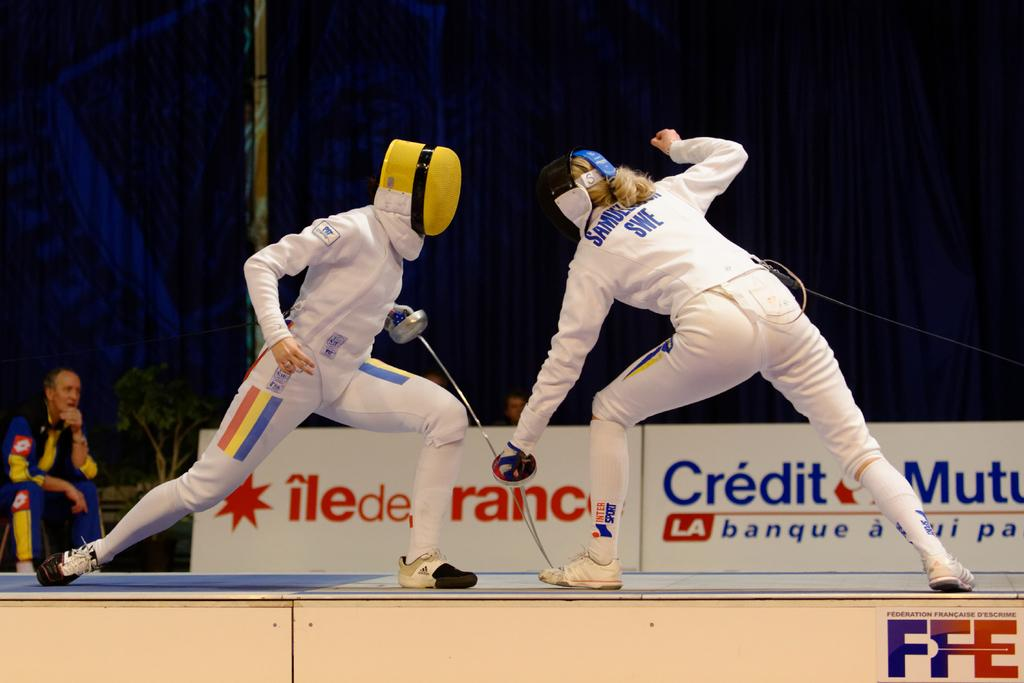knife: (387, 307, 550, 565), (491, 451, 556, 567)
non-violence: (4, 356, 99, 578)
violence: (35, 126, 983, 587)
